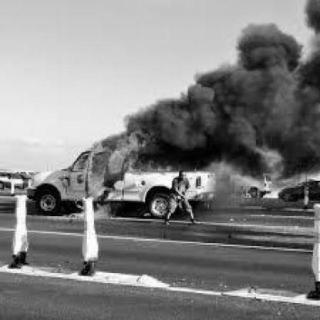Fire: (67, 131, 171, 217)
Smoke: (149, 7, 317, 171)
